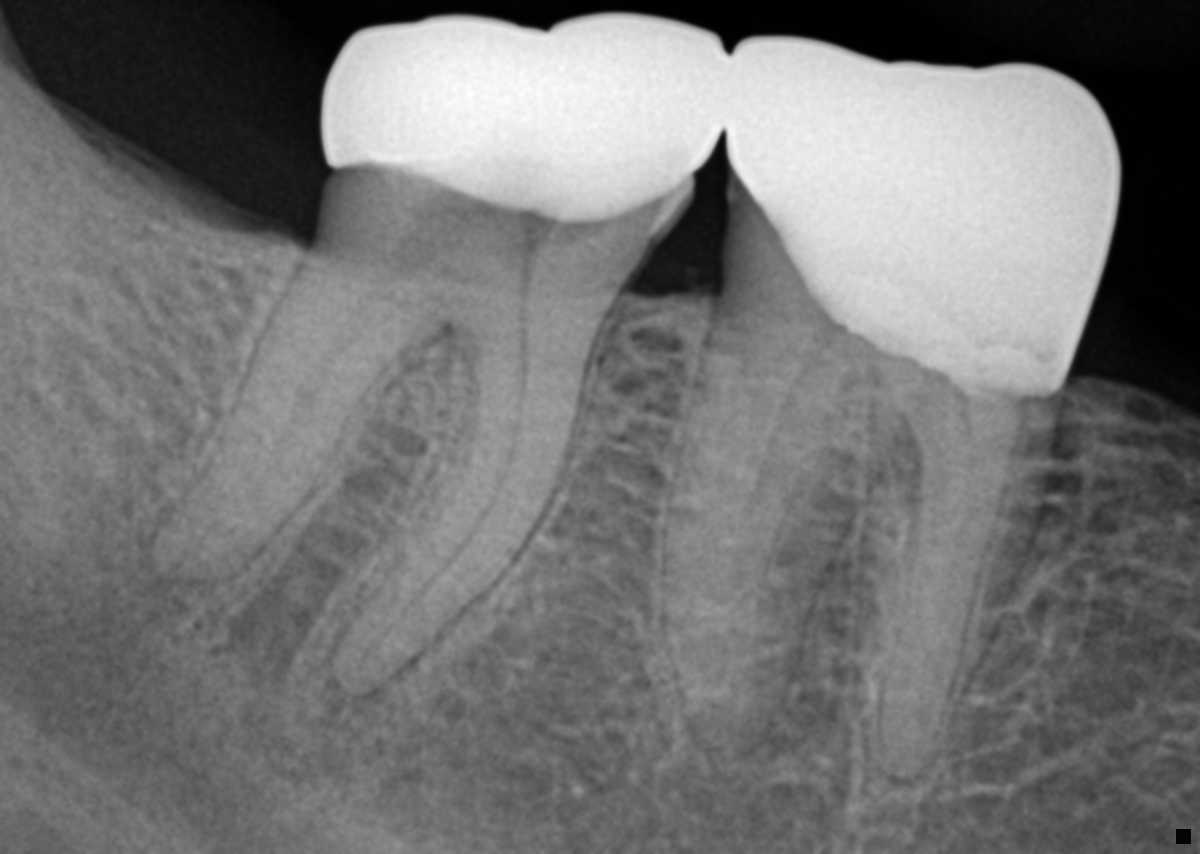Apical Lesion: (299, 632, 402, 760), (130, 532, 204, 623)
Distal Canal: (197, 266, 416, 552), (732, 339, 833, 565)
Distal Root: (161, 178, 474, 590), (664, 308, 925, 762)
Mesial Canal: (343, 300, 524, 685)
Mesial Root: (334, 293, 615, 698), (861, 388, 1057, 785)
